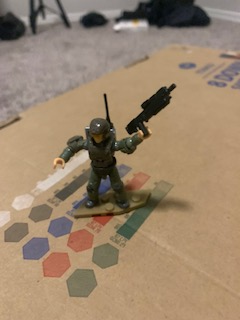soldier: (52, 81, 177, 211)
